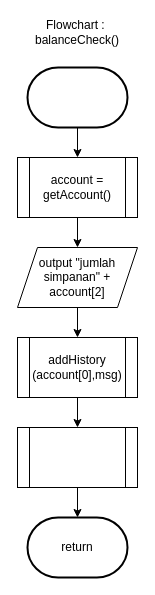
This 155x595 diagram has some shape labels left out. The shapes that lost their labels are listed below. From the top down, each one's box as (x1, y1, x2, y2) in pixels, then its label:
(26, 66, 128, 128): balanceCheck()
(16, 426, 138, 488): transactionMenu()
